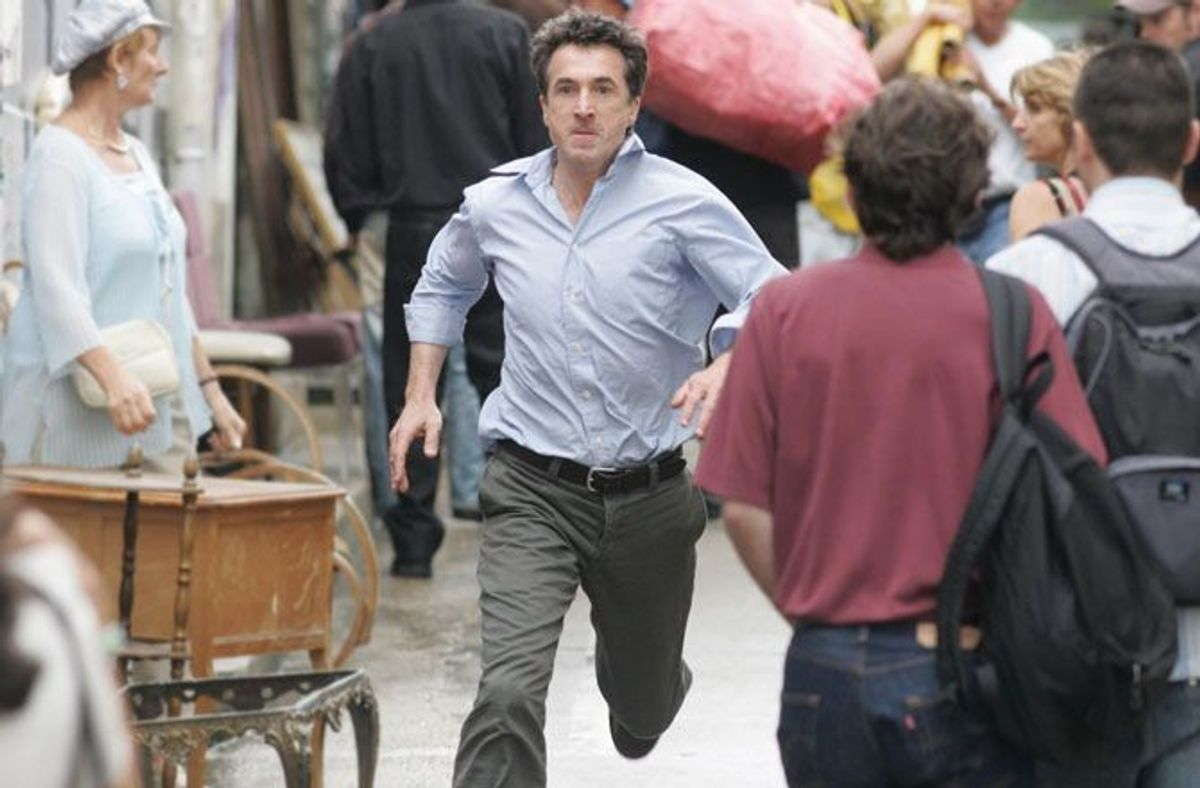without_mask: (534, 35, 642, 181), (995, 76, 1072, 173), (97, 26, 169, 114)
